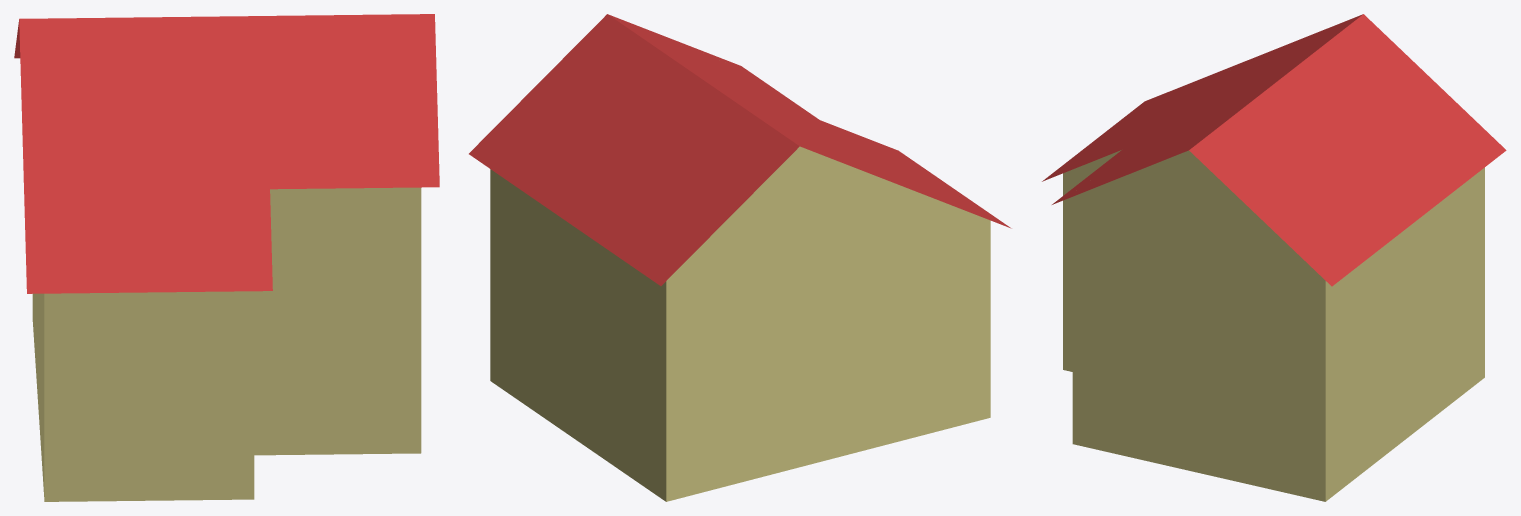
3 renders of one model, left to right at view 1: azimuth 30°, elevation 25°; view 2: azimuth 150°, elevation 25°; view 3: azimuth 270°, elevation 25°, orthographic. The views are drawn at different scales.
Bounding box in the file's own units: 16.28 × 14.61 × 11.36.
